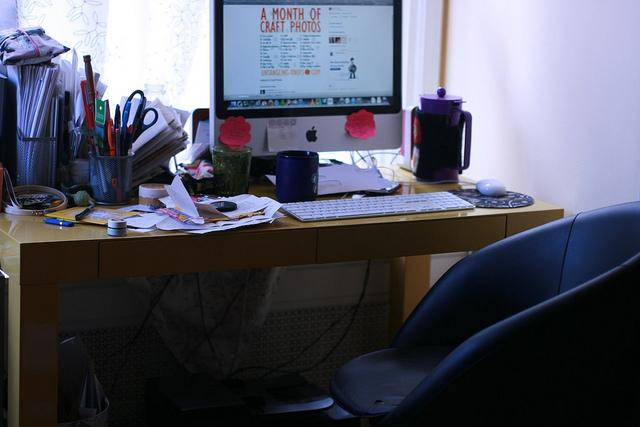cup: (276, 150, 318, 202), (212, 143, 251, 196)
